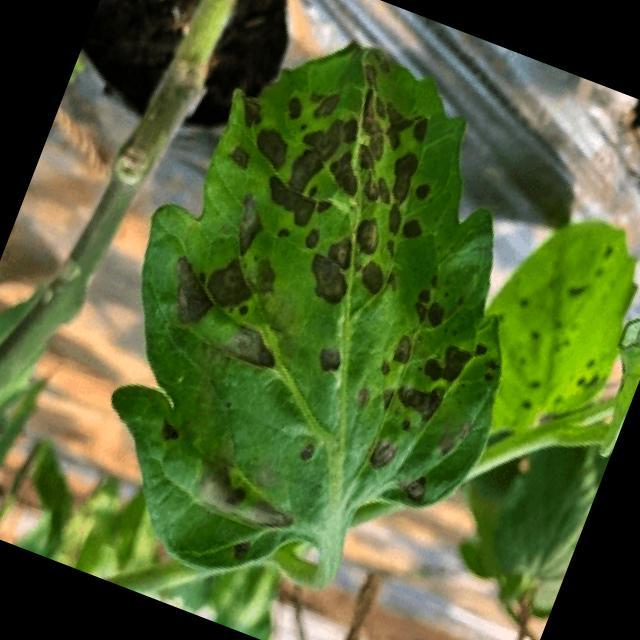Tomato bacterial spot leaf: (28, 0, 607, 640), (440, 180, 640, 465)
